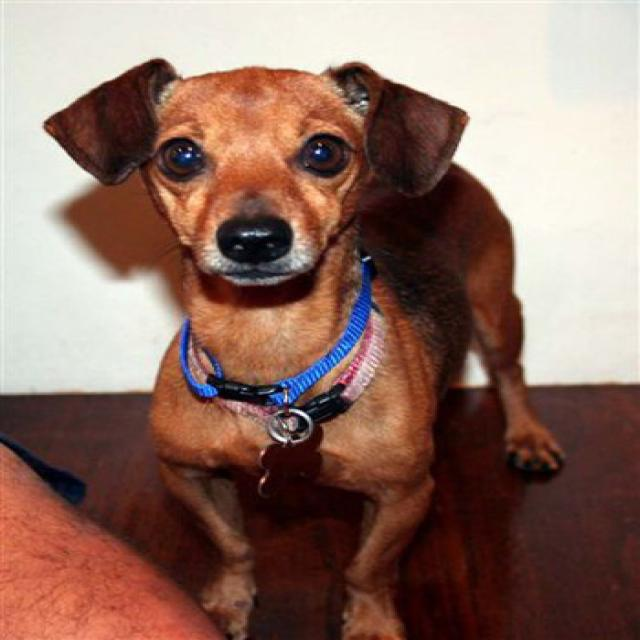Dogs: (40, 56, 567, 639)
